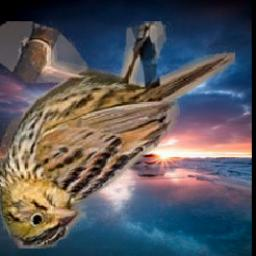Sparrow: (0, 21, 236, 249)
